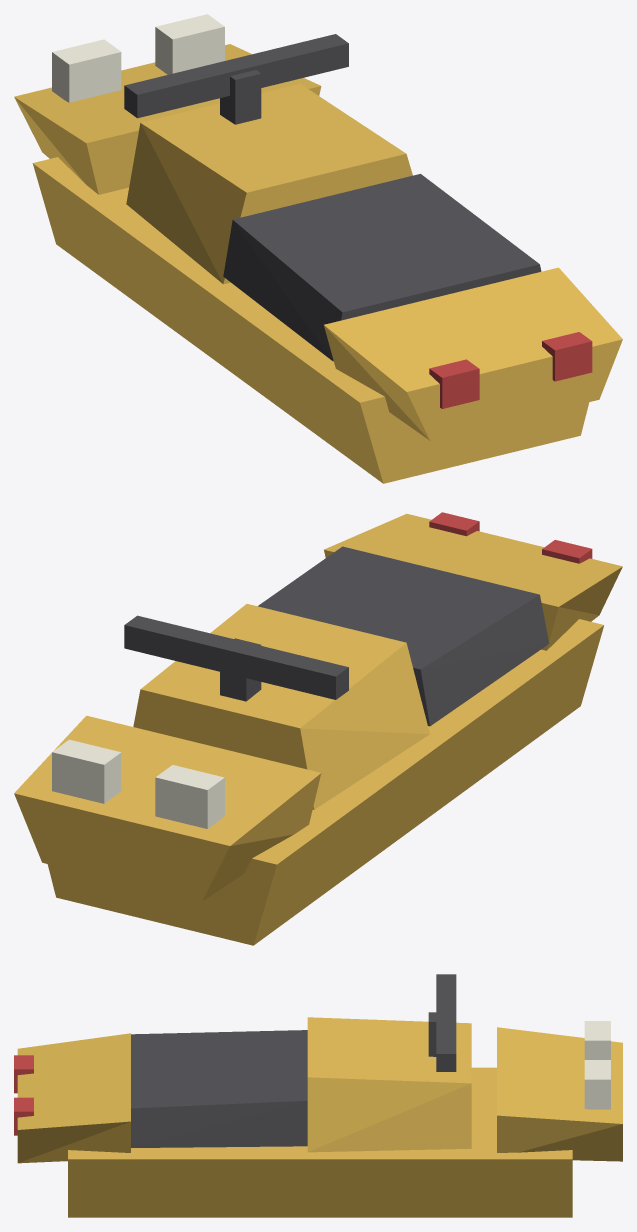
File: quad_atv.glb
3 views of the same model, one above another, from view 1: azimuth 30°, elevation 25°; view 2: azimuth 150°, elevation 25°; view 3: azimuth 270°, elevation 25° (orthographic). The views are drawn at different scales.
Visible parts, largest first — view 1: Quad ATV; view 2: Quad ATV; view 3: Quad ATV.
Part boxes in pixels (bbox=[...]): Quad ATV: bbox=[14, 14, 622, 483]; Quad ATV: bbox=[14, 512, 622, 945]; Quad ATV: bbox=[14, 974, 622, 1217].
Bounding box in the file's own units: 0.6552 × 0.5525 × 1.83.
